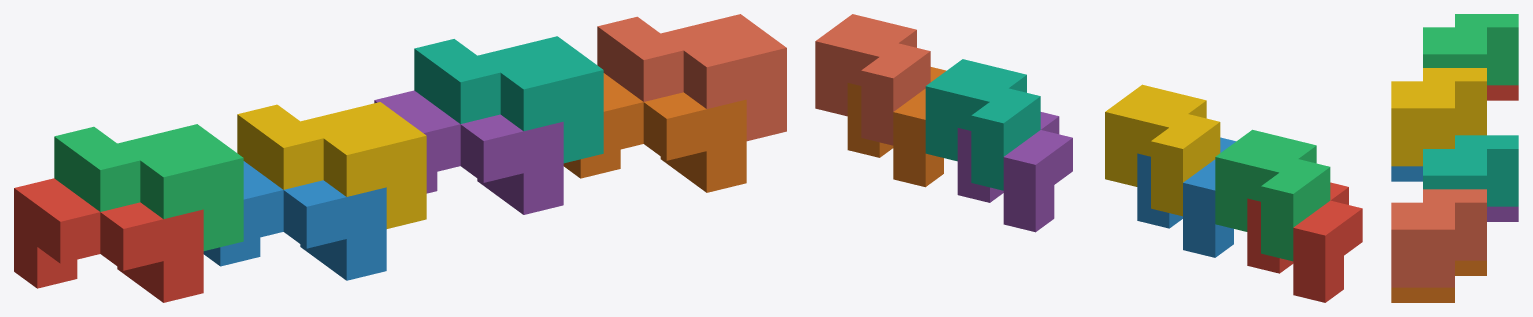
File: tiling.obj
3 views of the same model, side by side, from view 1: azimuth 30°, elevation 25°; view 2: azimuth 150°, elevation 25°; view 3: azimuth 270°, elevation 25° (orthographic). The views are drawn at different scales.
Parts seen in each view (by area): view 1: copy_1_domain_1, copy_1_domain_3, copy_1_domain_7, copy_1_domain_4, copy_1_domain_8, copy_1_domain_2, copy_1_domain_6, copy_1_domain_5; view 2: copy_1_domain_3, copy_1_domain_7, copy_1_domain_8, copy_1_domain_4, copy_1_domain_5, copy_1_domain_1, copy_1_domain_6, copy_1_domain_2; view 3: copy_1_domain_8, copy_1_domain_4, copy_1_domain_7, copy_1_domain_3, copy_1_domain_6, copy_1_domain_1, copy_1_domain_2, copy_1_domain_5.
Boxes of the visible parts, x1,y1,x2,y2 form: copy_1_domain_1: [14, 178, 203, 302]; copy_1_domain_3: [54, 124, 243, 250]; copy_1_domain_7: [414, 36, 603, 163]; copy_1_domain_4: [237, 102, 426, 228]; copy_1_domain_8: [597, 14, 786, 141]; copy_1_domain_2: [203, 161, 386, 280]; copy_1_domain_6: [563, 73, 746, 192]; copy_1_domain_5: [374, 90, 563, 214]; copy_1_domain_3: [1215, 129, 1330, 261]; copy_1_domain_7: [925, 59, 1040, 190]; copy_1_domain_8: [815, 14, 930, 145]; copy_1_domain_4: [1105, 84, 1220, 216]; copy_1_domain_5: [957, 112, 1072, 232]; copy_1_domain_1: [1247, 182, 1362, 302]; copy_1_domain_6: [847, 67, 946, 187]; copy_1_domain_2: [1137, 137, 1235, 257]; copy_1_domain_8: [1391, 189, 1486, 287]; copy_1_domain_4: [1391, 68, 1486, 166]; copy_1_domain_7: [1423, 135, 1518, 206]; copy_1_domain_3: [1423, 14, 1518, 85]; copy_1_domain_6: [1391, 260, 1486, 302]; copy_1_domain_1: [1487, 85, 1518, 100]; copy_1_domain_2: [1391, 166, 1422, 181]; copy_1_domain_5: [1487, 206, 1518, 221].
Bounding box in the file's own units: 17 × 3 × 4.
